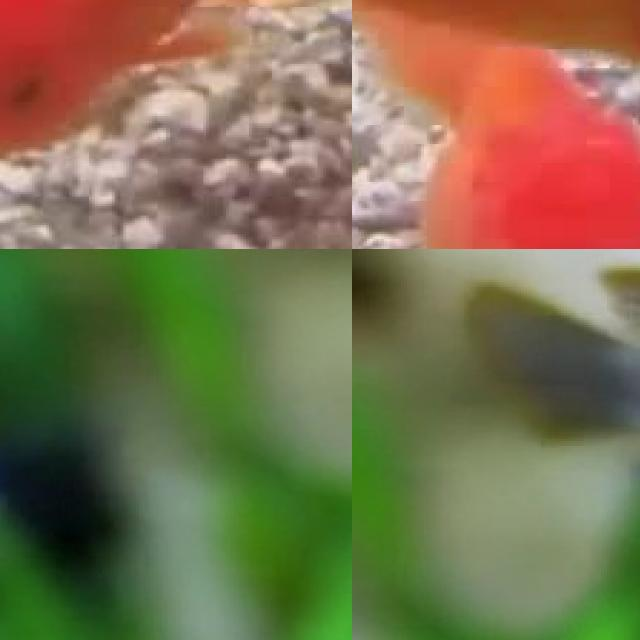fish: (0, 0, 352, 249), (0, 432, 130, 640)
